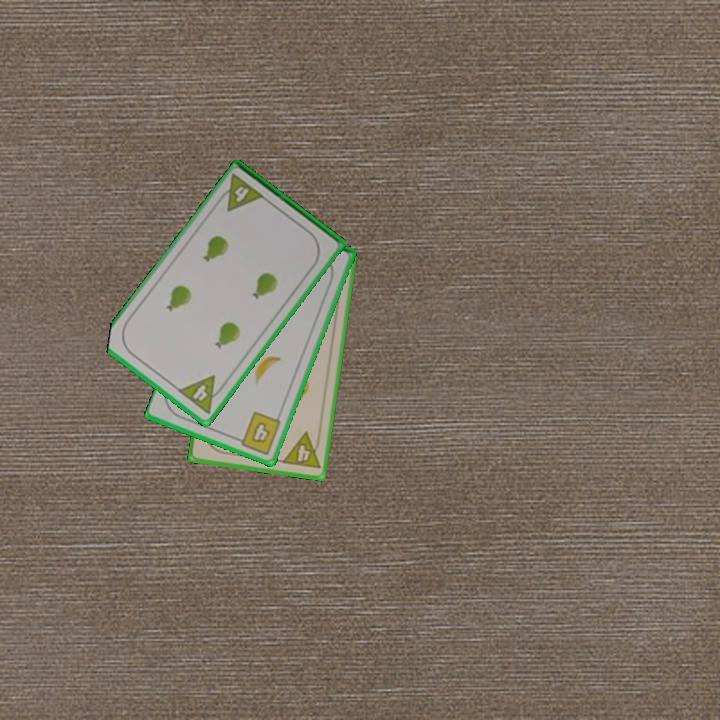4b: (232, 408, 284, 458)
4p: (174, 372, 229, 417), (214, 171, 268, 214), (278, 429, 324, 472)
